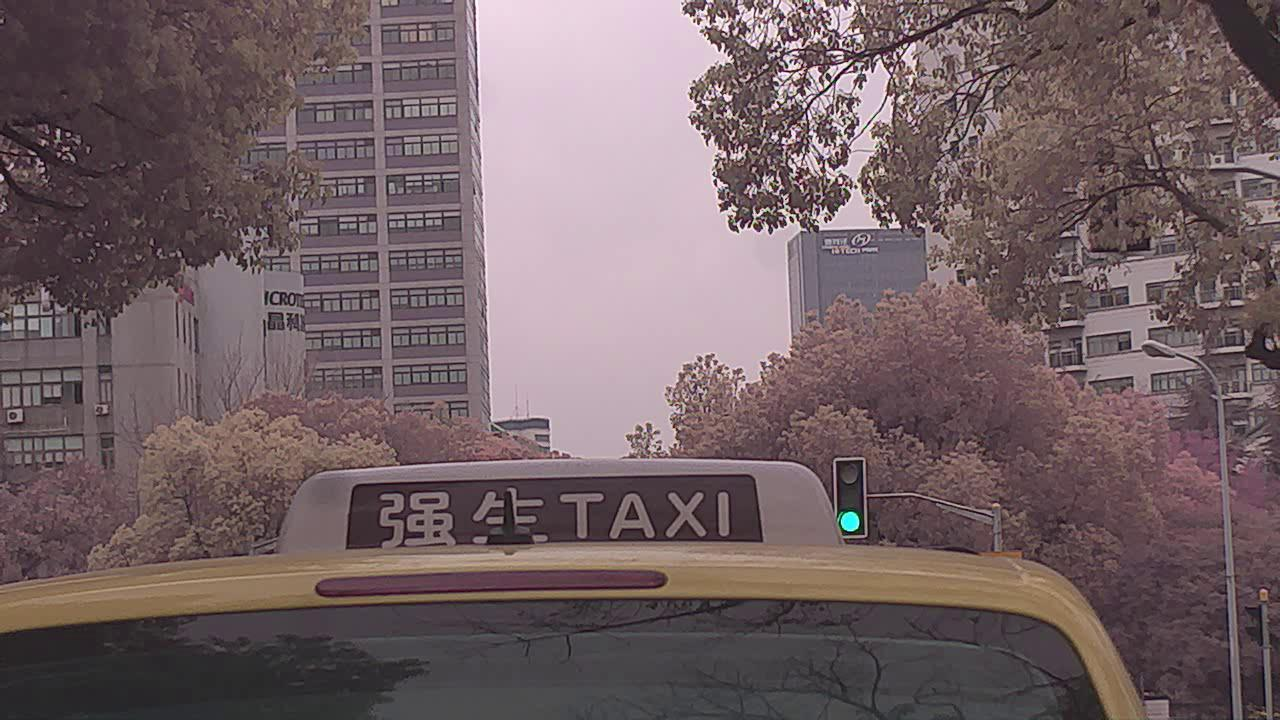traffic_light: (839, 460, 868, 539)
